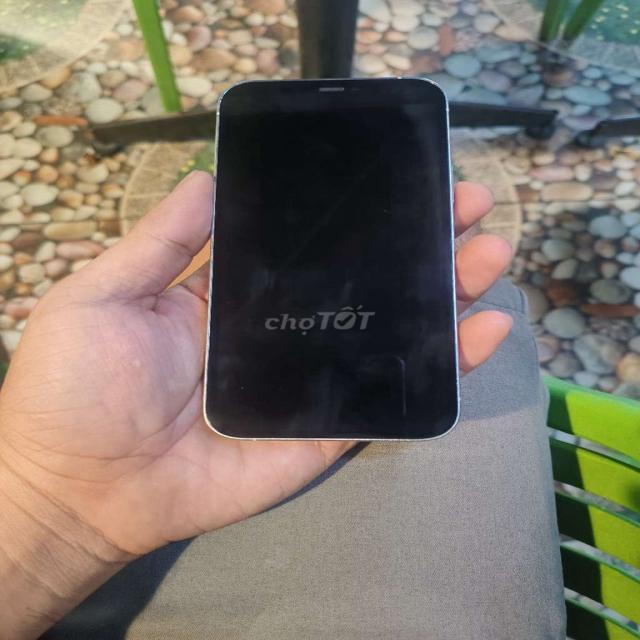gen_12_13: (205, 73, 460, 445)
